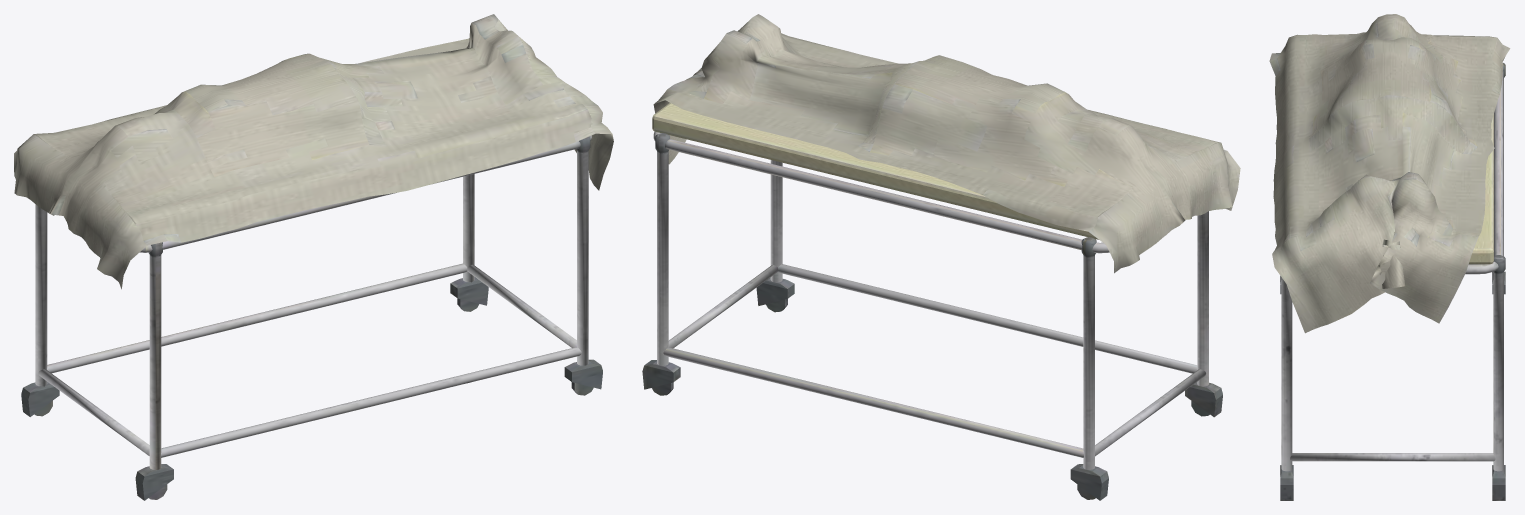
The model's file is hospital_stretcher.glb.
The picture shows the model from 3 angles, left to right: view 1: azimuth 30°, elevation 25°; view 2: azimuth 150°, elevation 25°; view 3: azimuth 270°, elevation 25°; orthographic projection. The views are drawn at different scales.
Visible parts, largest first — view 1: Maca; view 2: Maca; view 3: Maca.
Part boxes in pixels (box(x1,y1,x2,y2)): Maca: box(14, 14, 613, 500); Maca: box(642, 14, 1240, 500); Maca: box(1269, 14, 1510, 500).
Bounding box in the file's own units: 243 × 155 × 108.
3 materials, 3 textured.
